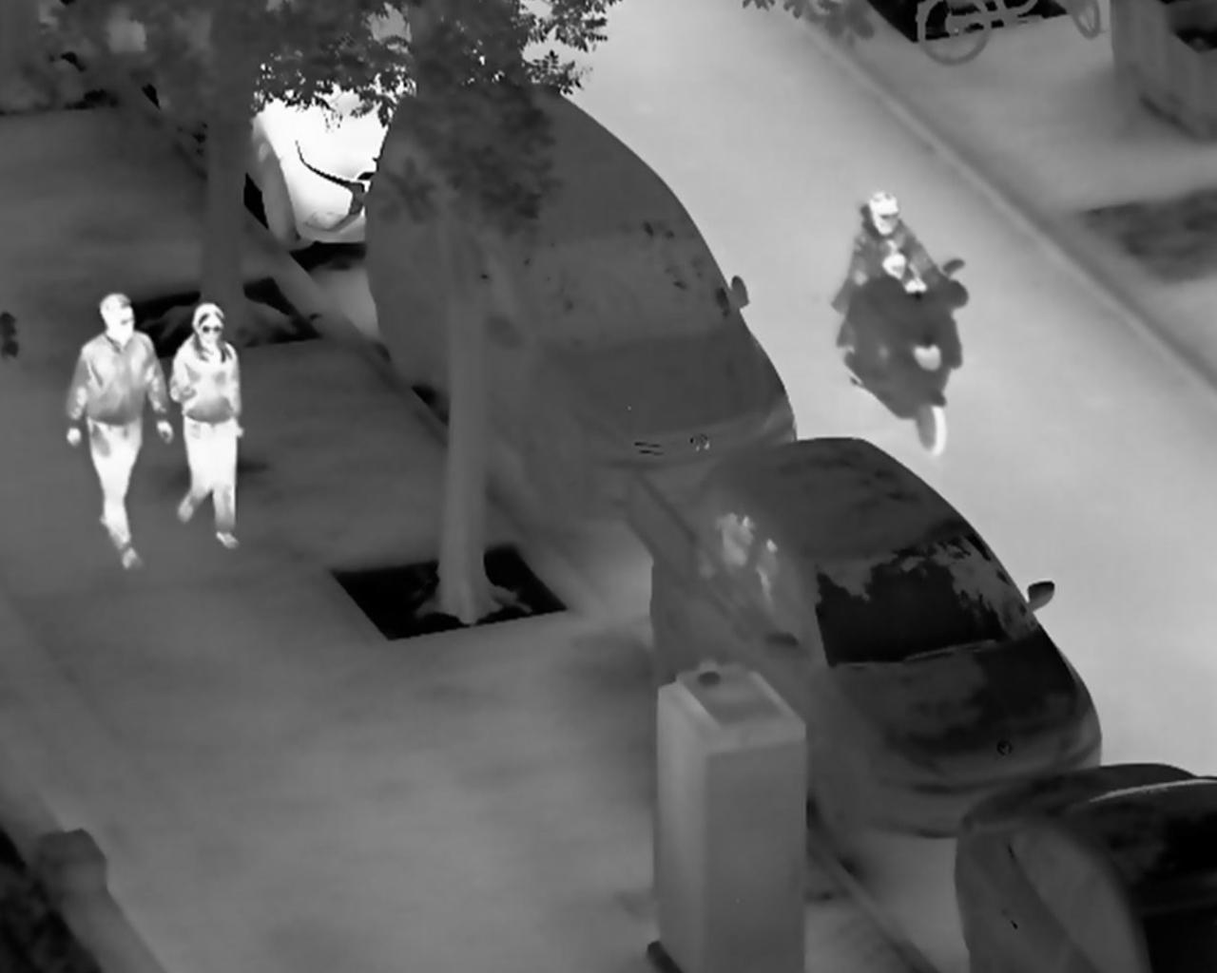person: (59, 290, 175, 576), (167, 300, 245, 553), (851, 188, 955, 323)
